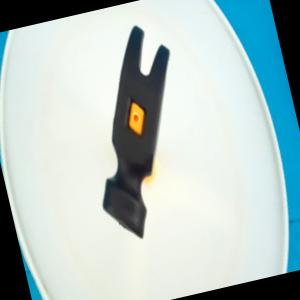martelo: (62, 17, 209, 246)
